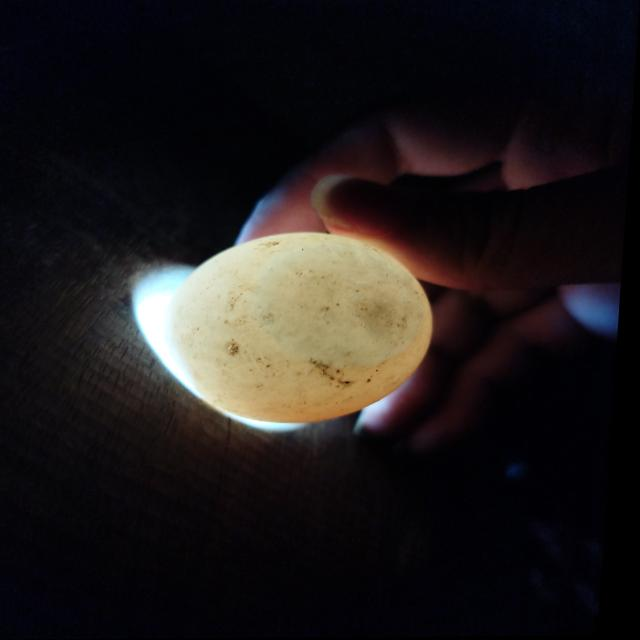Camara de Ar: (262, 244, 429, 365)
